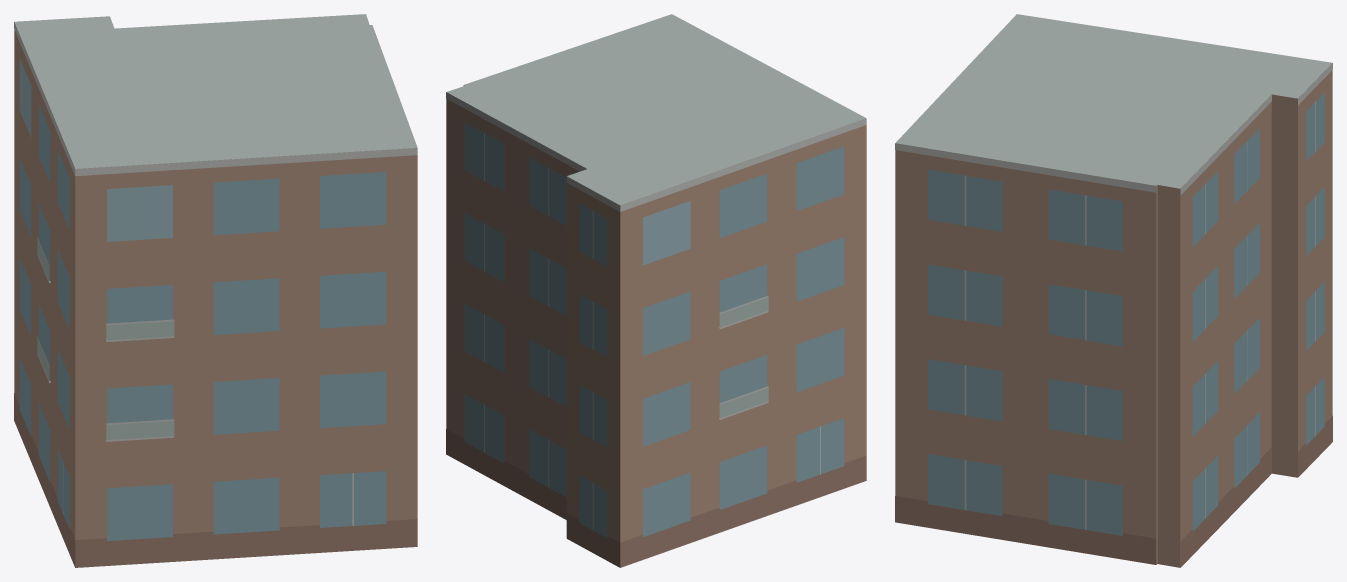
Rendered from survey-upis-32918947.glb.
3 views of the same model, side by side, from view 1: azimuth 30°, elevation 25°; view 2: azimuth 150°, elevation 25°; view 3: azimuth 270°, elevation 25° (orthographic). The views are drawn at different scales.
Parts seen in each view (by area): view 1: survey-upis-32918947.tmp; view 2: survey-upis-32918947.tmp; view 3: survey-upis-32918947.tmp.
Boxes of the visible parts, <box> form: survey-upis-32918947.tmp: <box>14,14,417,567</box>; survey-upis-32918947.tmp: <box>446,14,866,567</box>; survey-upis-32918947.tmp: <box>895,14,1332,567</box>.
Size of the model in its own units: 13.28 by 13.43 by 14.06.
